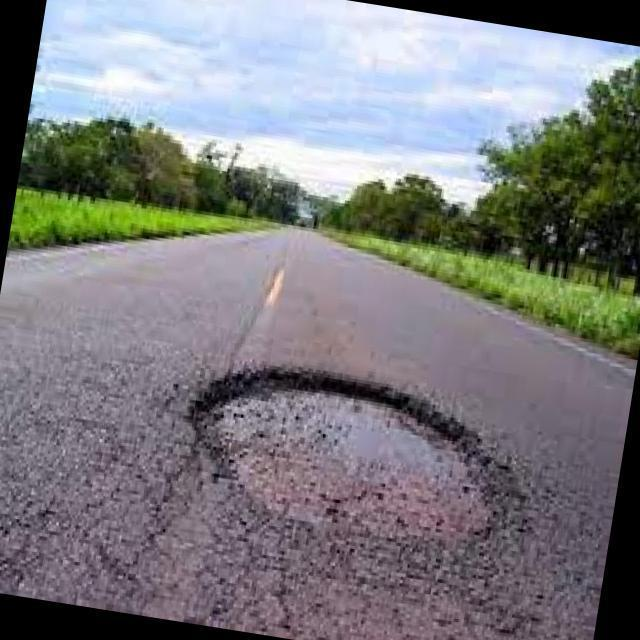Pothole: (192, 371, 488, 545)
